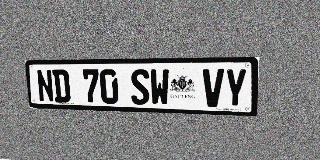0: (99, 69, 119, 104)
7: (81, 69, 101, 104)
D: (52, 69, 71, 103)
N: (36, 69, 54, 102)
S: (130, 69, 150, 105)
V: (202, 69, 224, 107)
W: (150, 69, 170, 106)
Y: (224, 69, 247, 108)
